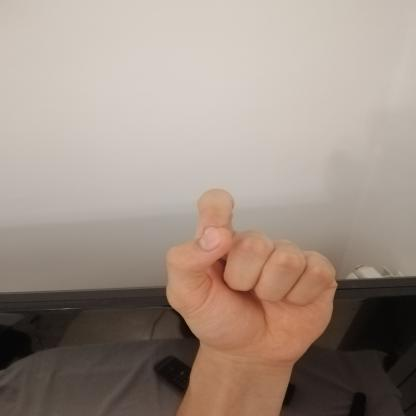FAA: (149, 180, 355, 372)
